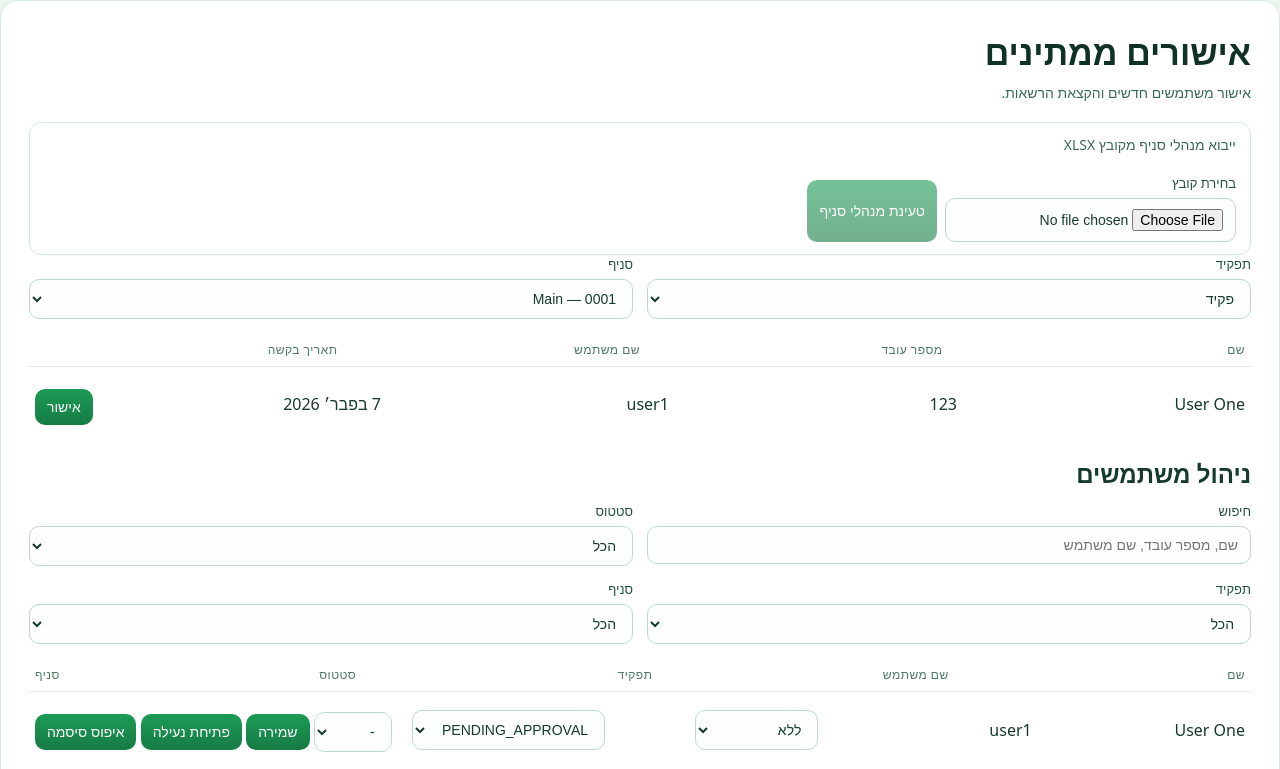
it: AdminApprove › resets user password and shows temporary password notice
Click the button "איפוס סיסמה" at [86, 732], box [35,714,136,750]
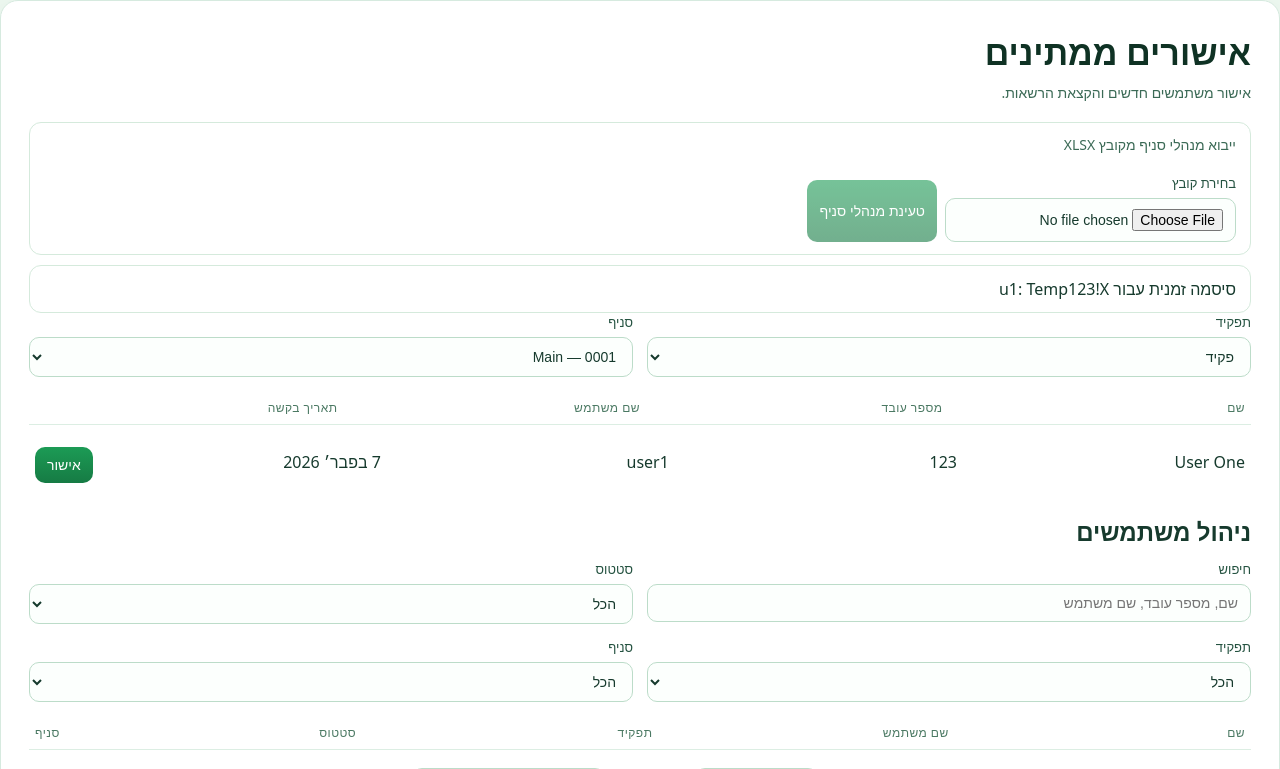
Now the text "סיסמה זמנית עבור u1: Temp123!X" is shown, box [29,265,1251,313]
